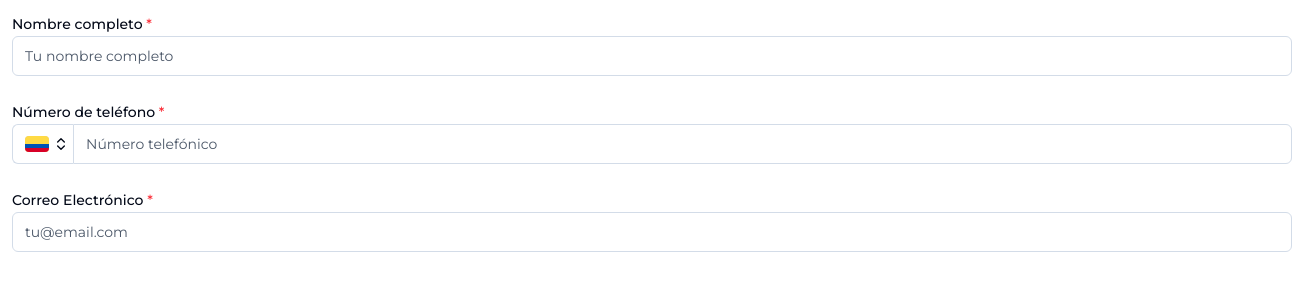
Test: Step1_BasicInfo Component › Data Flow and User Input › updates form state when user types in email field
This screenshot has width=1304, height=290.
Type "test@example.com" into the field labelled "Correo Electrónico *" at [652, 232], box [12,212,1292,252]
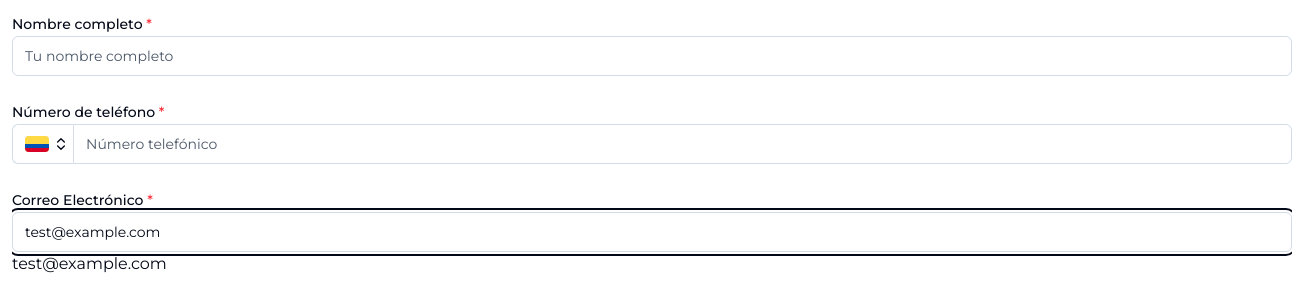
expect the text with test id "watched-email" reads "test@example.com": met, box [12,254,167,273]
